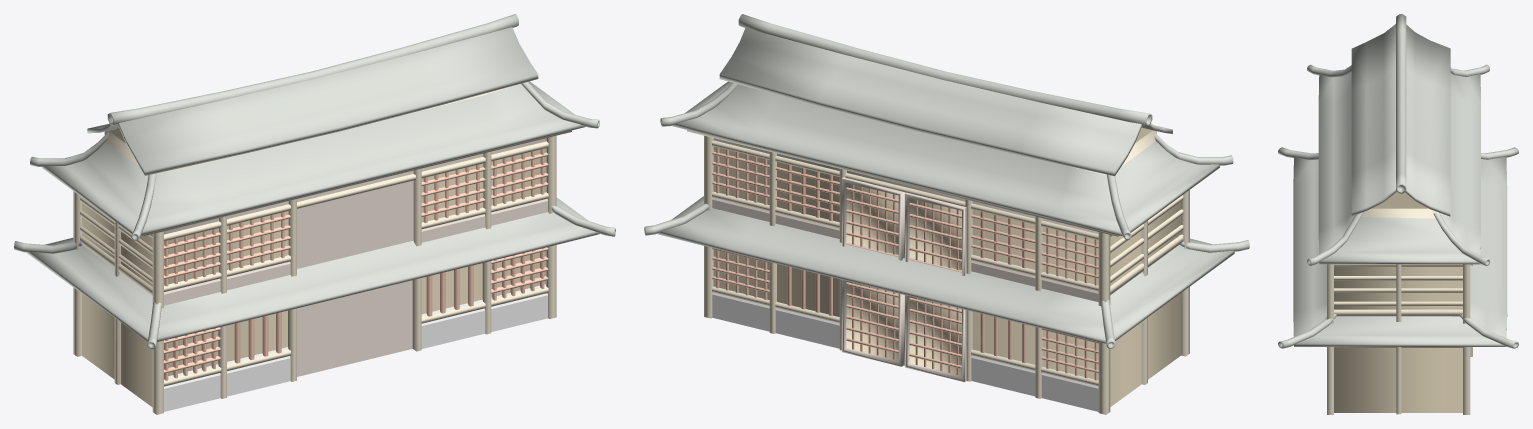
Rendered from building-shop-bare.glb.
The picture shows the model from 3 angles, left to right: view 1: azimuth 30°, elevation 25°; view 2: azimuth 150°, elevation 25°; view 3: azimuth 270°, elevation 25°; orthographic projection. The views are drawn at different scales.
Visible parts, largest first — view 1: building-shop; view 2: building-shop; view 3: building-shop.
Part boxes in pixels (bbox=[...]): building-shop: bbox=[14, 14, 615, 414]; building-shop: bbox=[644, 14, 1249, 414]; building-shop: bbox=[1278, 14, 1518, 414].
Size of the model in its own units: 12.91 by 7.12 by 6.69.
